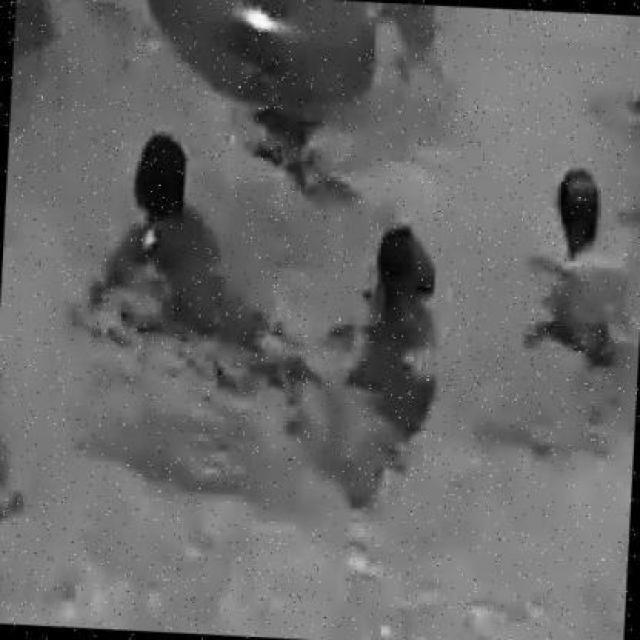drowning: (139, 135, 226, 323), (555, 159, 623, 339), (374, 227, 434, 399)
